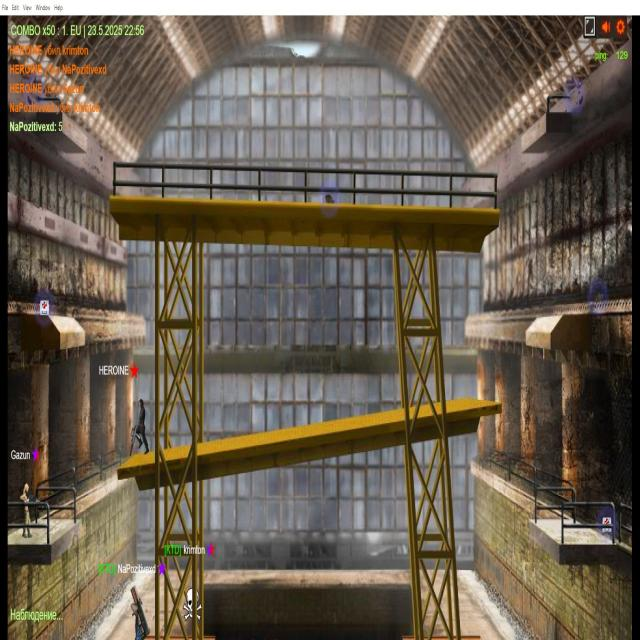enemy: (134, 394, 150, 460), (21, 479, 38, 540), (132, 592, 145, 640)
